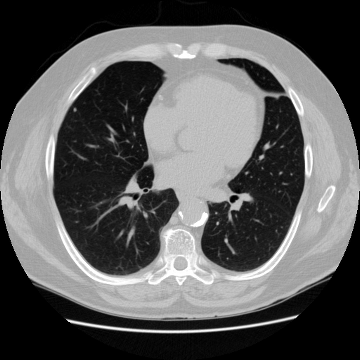nodule: (73, 107, 77, 111)
